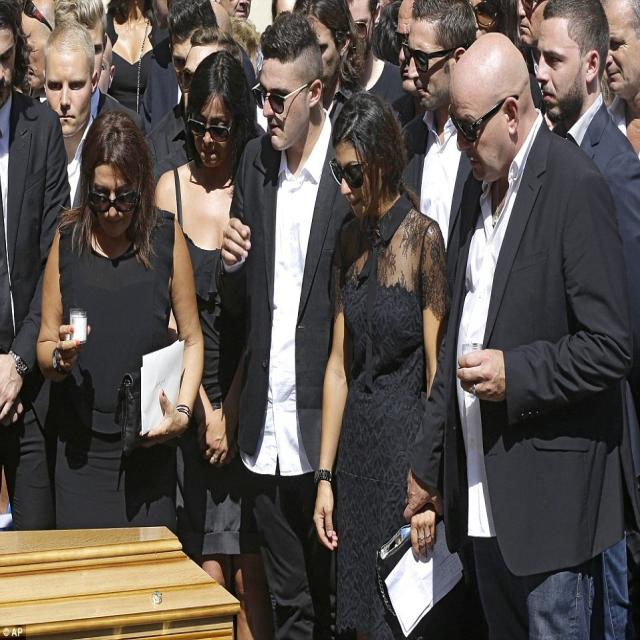body: (398, 24, 640, 639), (215, 10, 344, 640), (309, 87, 454, 639), (35, 107, 206, 534), (533, 0, 639, 640), (153, 49, 260, 640), (0, 0, 75, 532), (173, 0, 423, 143), (394, 0, 484, 286), (13, 0, 164, 127), (40, 0, 148, 149), (142, 0, 221, 172), (466, 0, 561, 139), (39, 17, 102, 215), (589, 0, 639, 158)
